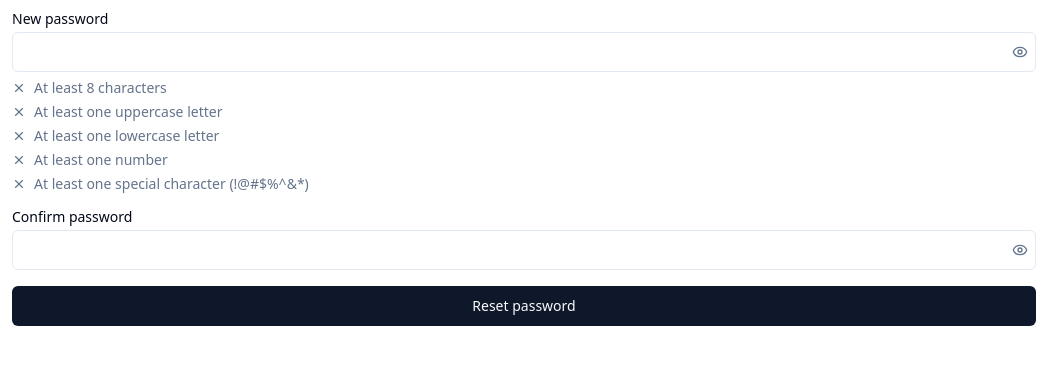
Scenario: ResetPasswordForm › shows a mismatch message when confirm does not match
In the password field labelled "New password": (524, 52) [12,32,1036,72], type "Password1!"
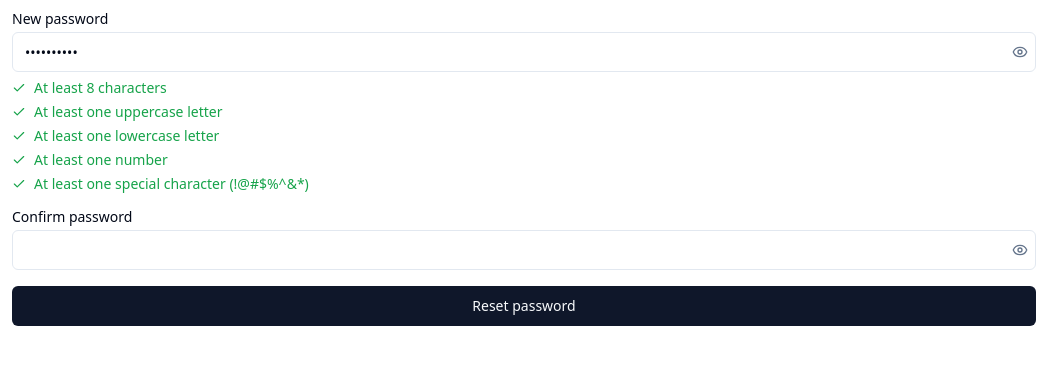
In the password field labelled "Confirm password": (524, 250) [12,230,1036,270], type "Different1!"
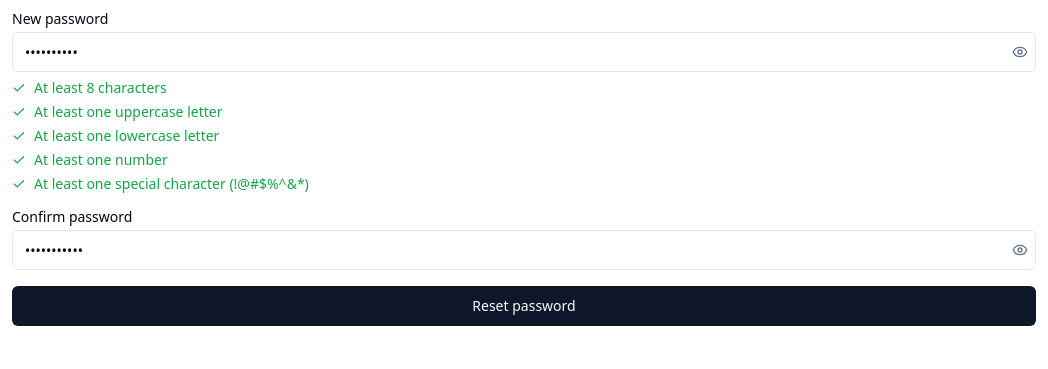
Click the button "Reset password": (524, 306) [12,286,1036,326]
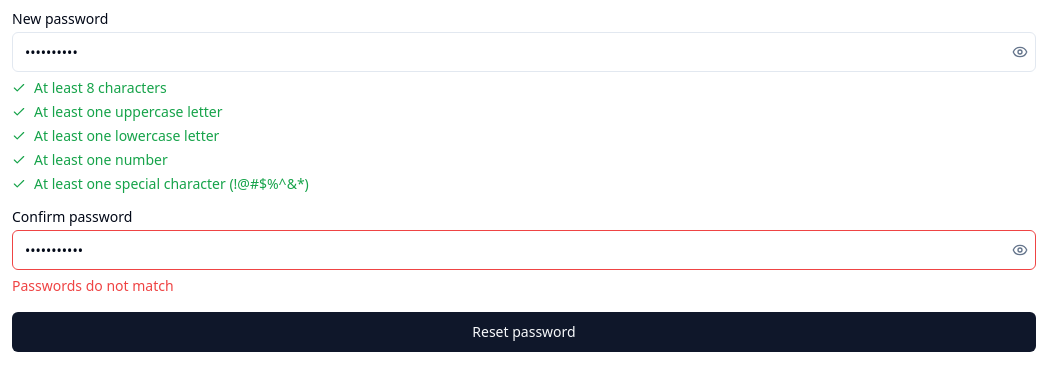
Check: the text "Passwords do not match" is shown, box [12,276,174,295]
